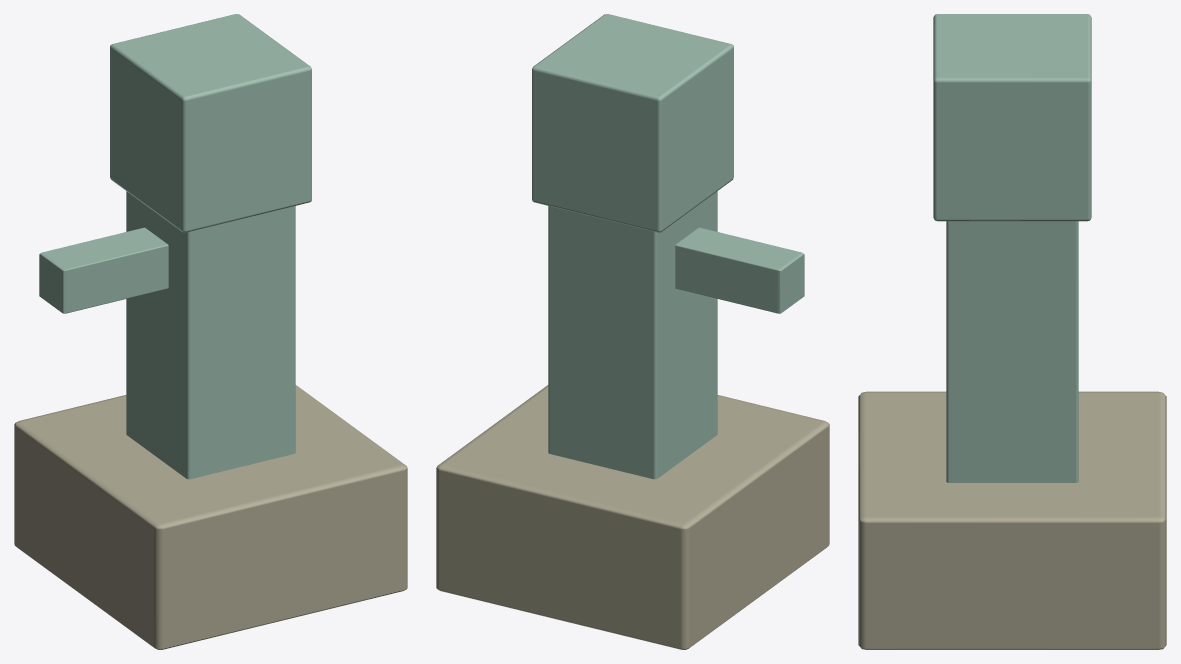
File: statue-3.glb
3 renders of one model, left to right at view 1: azimuth 30°, elevation 25°; view 2: azimuth 150°, elevation 25°; view 3: azimuth 270°, elevation 25°, orthographic. The views are drawn at different scales.
Visible parts, largest first — view 1: statue-3-0; view 2: statue-3-0; view 3: statue-3-0.
Part boxes in pixels (x1,y1,x2,y2): statue-3-0: (14, 14, 407, 649); statue-3-0: (436, 14, 829, 649); statue-3-0: (858, 14, 1166, 649).
Size of the model in its own units: 0.815 by 1.39 by 0.72.
